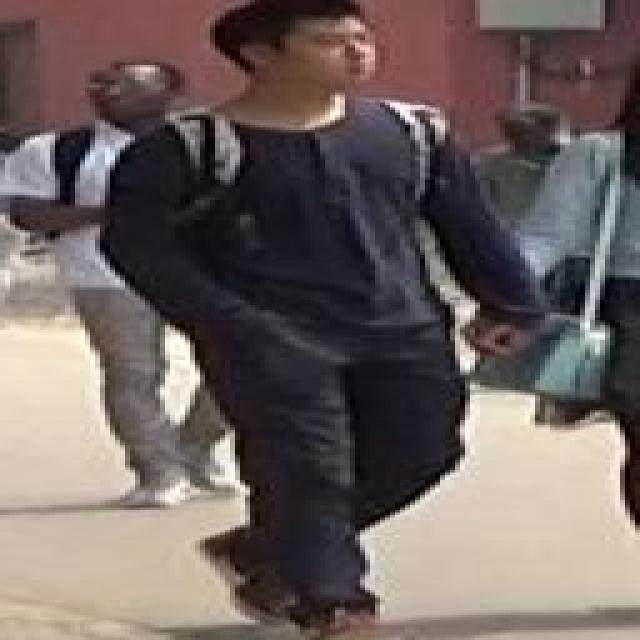adult: (110, 0, 554, 637), (51, 68, 266, 480)
